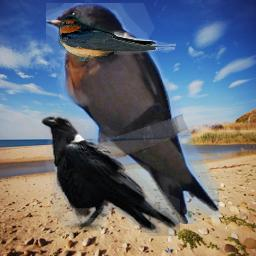Crow: (41, 110, 180, 236)
Swallow: (46, 3, 219, 224), (56, 13, 176, 61)
